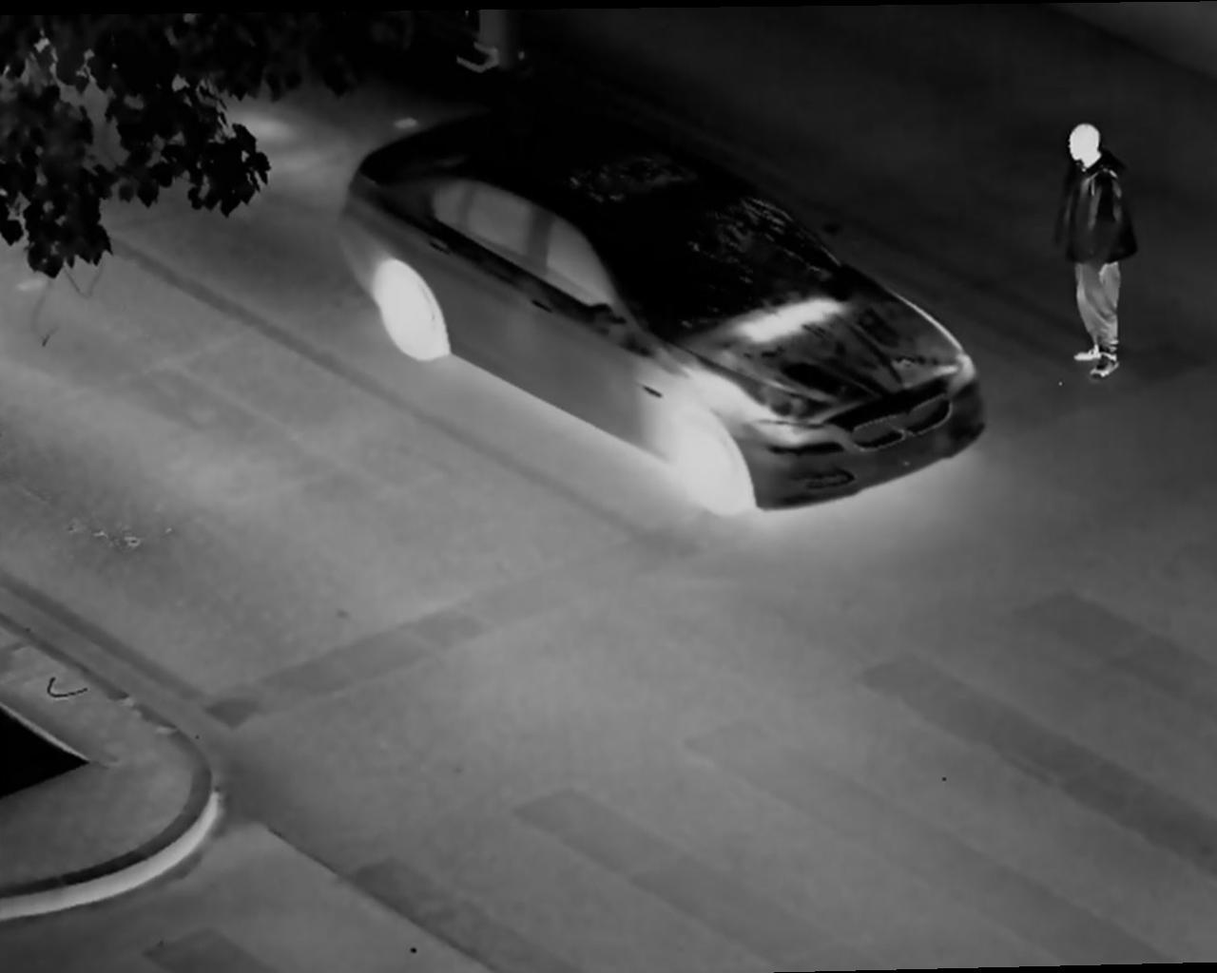person: (1057, 114, 1139, 391)
